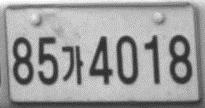0: (115, 34, 139, 85)
1: (142, 33, 161, 86)
4: (87, 35, 114, 85)
5: (36, 36, 59, 84)
8: (167, 33, 192, 84), (11, 36, 34, 85)
가: (61, 44, 84, 85)
